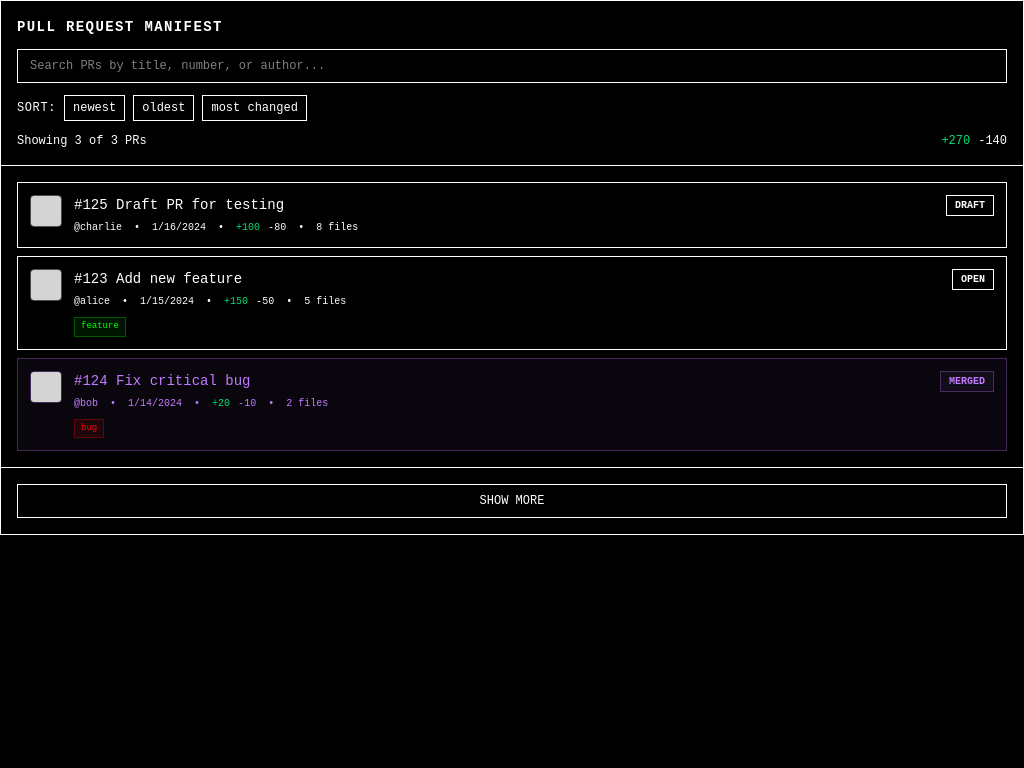
InteractivePRViewer › searches PRs by title
Type "feature" into the field with placeholder "Search PRs by title, number, or author..." at (512, 66), box [17,49,1007,83]
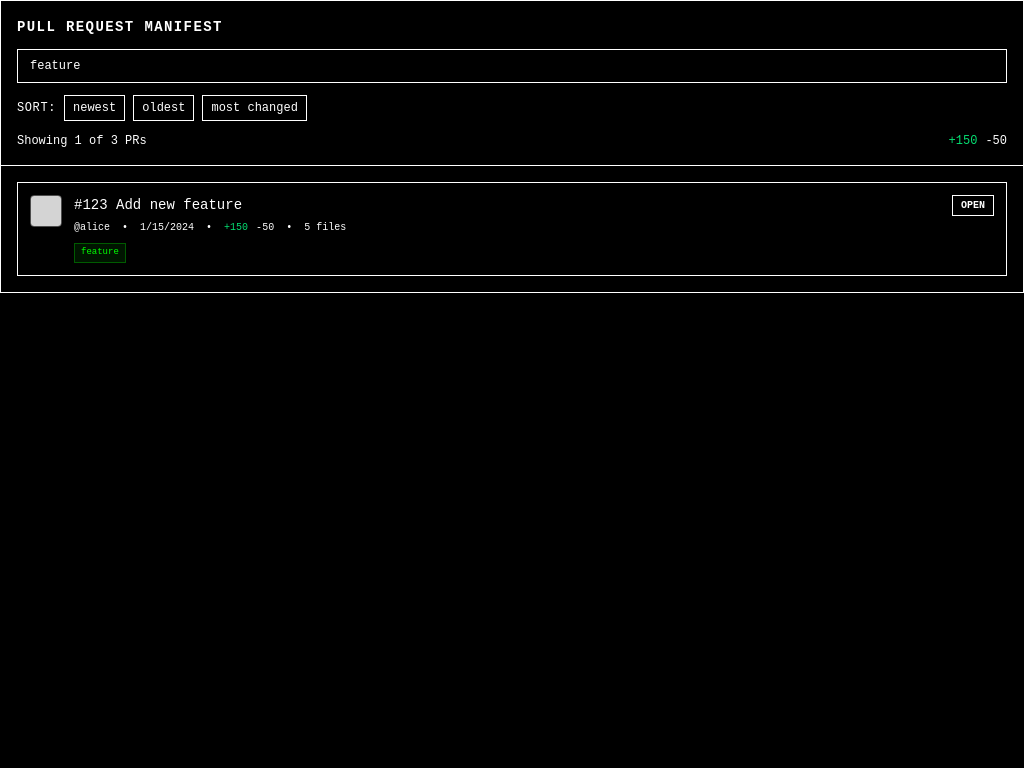
Result: the text "Showing 1 of 3 PRs" is shown at [17,133,147,149]
